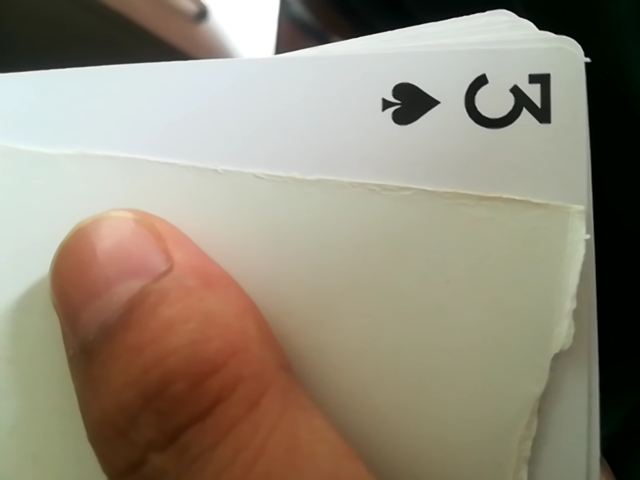ht 3: (346, 61, 567, 169)
